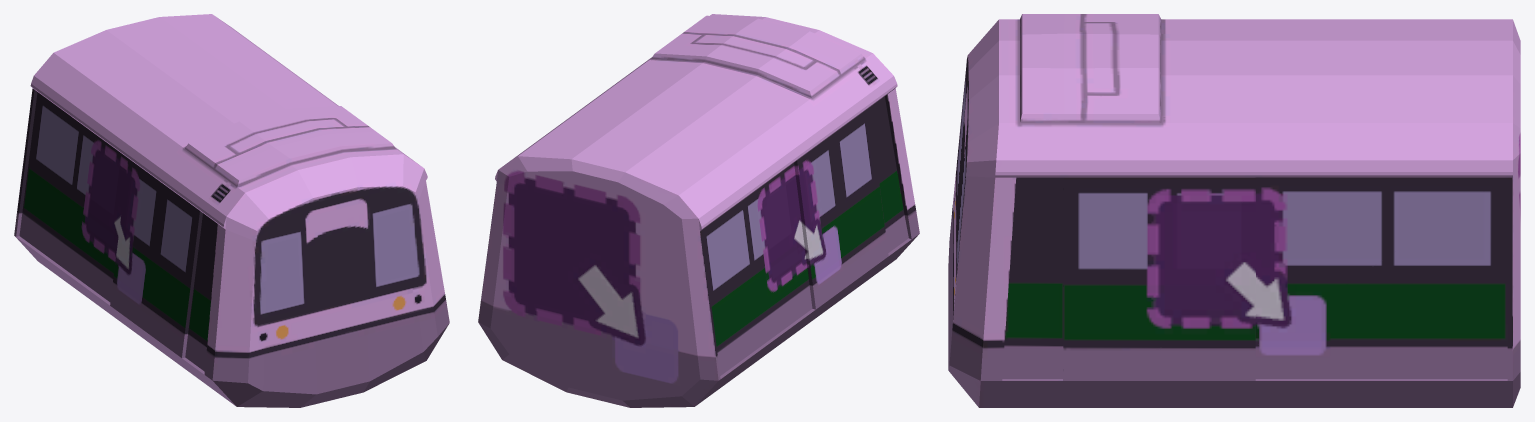
Rendered from MovingPlatformMRT_GreenShrink.fbx.
The picture shows the model from 3 angles, left to right: view 1: azimuth 30°, elevation 25°; view 2: azimuth 150°, elevation 25°; view 3: azimuth 270°, elevation 25°; orthographic projection. The views are drawn at different scales.
Parts seen in each view (by area): view 1: Cube.016; view 2: Cube.016; view 3: Cube.016.
Boxes of the visible parts, bbox=[...] form: Cube.016: bbox=[14, 14, 449, 407]; Cube.016: bbox=[478, 14, 919, 407]; Cube.016: bbox=[948, 14, 1520, 407].
Bounding box in the file's own units: 276 × 263 × 430.
